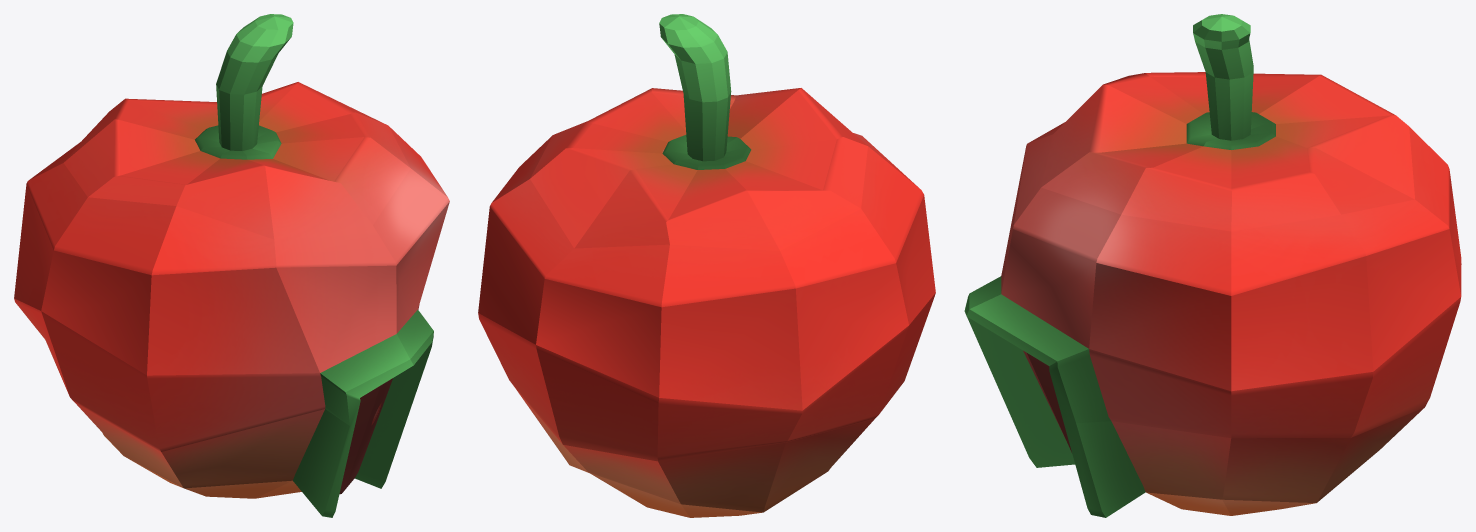
Rendered from Apple.fbx.
The picture shows the model from 3 angles, left to right: view 1: azimuth 30°, elevation 25°; view 2: azimuth 150°, elevation 25°; view 3: azimuth 270°, elevation 25°; orthographic projection. The views are drawn at different scales.
Visible parts, largest first — view 1: Apple; view 2: Apple; view 3: Apple.
Part boxes in pixels (bbox=[...]): Apple: bbox=[14, 14, 449, 517]; Apple: bbox=[478, 14, 935, 517]; Apple: bbox=[964, 14, 1461, 517].
Size of the model in its own units: 3.62 by 3.94 by 3.69.
